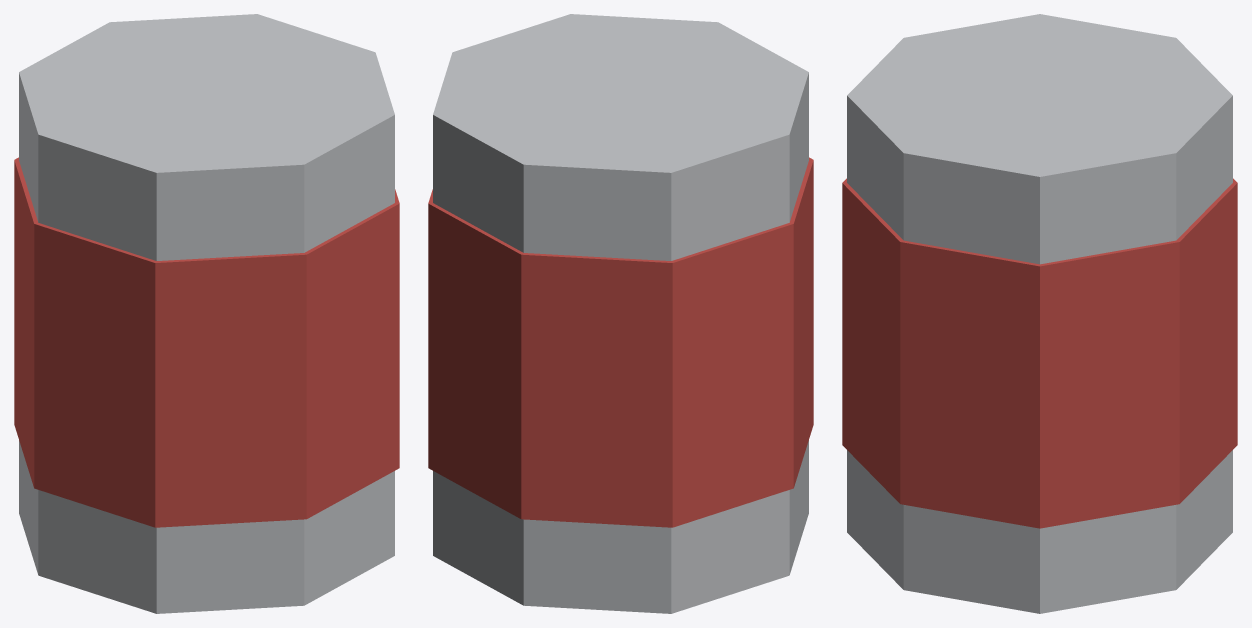
The model's file is Esya_Konserve.glb.
The picture shows the model from 3 angles, left to right: view 1: azimuth 30°, elevation 25°; view 2: azimuth 150°, elevation 25°; view 3: azimuth 270°, elevation 25°; orthographic projection.
Visible parts, largest first — view 1: Esya_Konserve; view 2: Esya_Konserve; view 3: Esya_Konserve.
Part boxes in pixels (x1,y1,x2,y2): Esya_Konserve: (14,14,399,613); Esya_Konserve: (428,14,813,613); Esya_Konserve: (842,14,1237,613).
Bounding box in the file's own units: 0.082 × 0.1 × 0.082.
